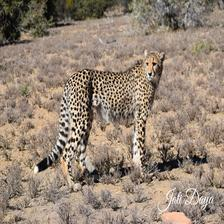Cheetah: (36, 50, 168, 195)
